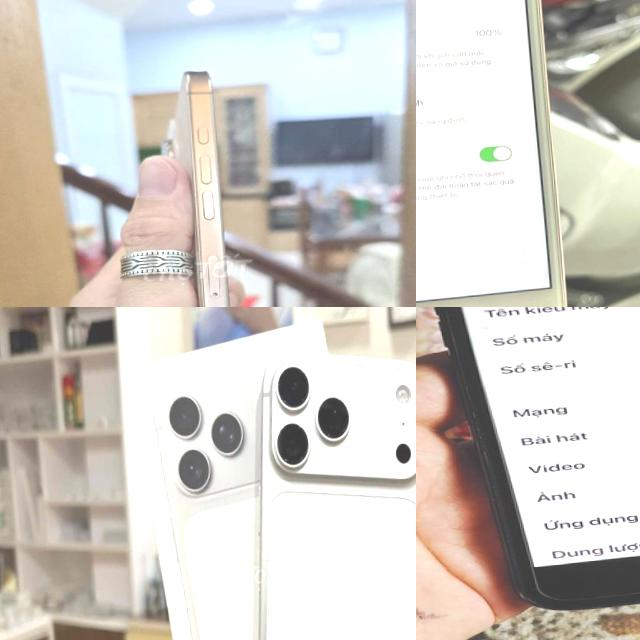scratch: (418, 340, 478, 371), (492, 583, 548, 612)
